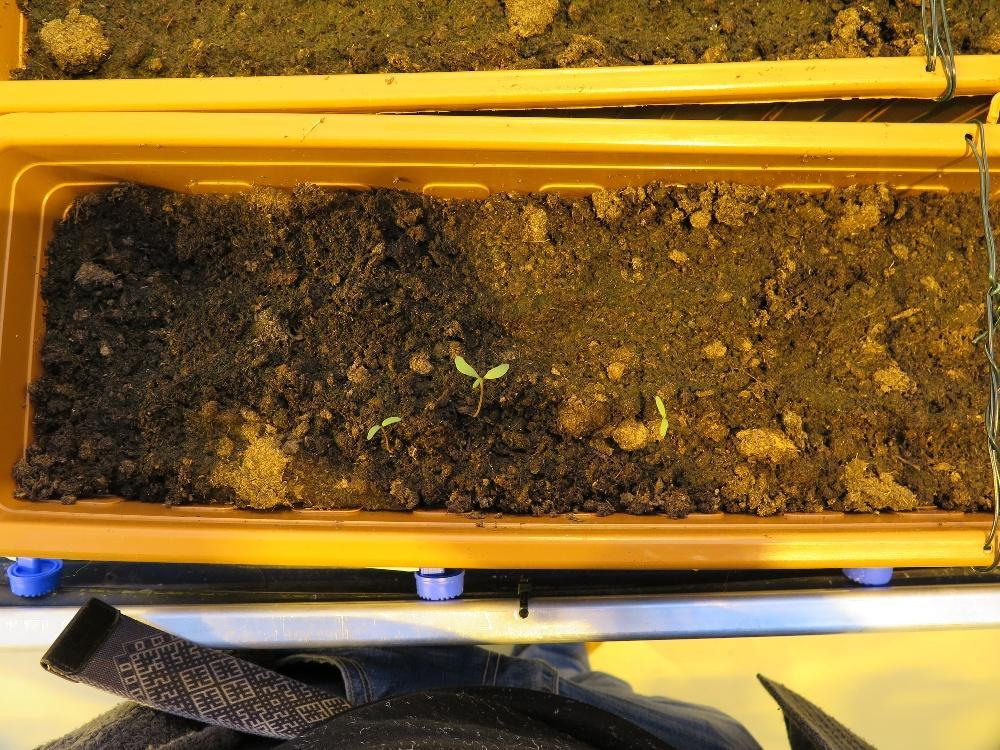weed: (452, 352, 509, 388), (364, 413, 401, 441), (652, 392, 667, 438)
